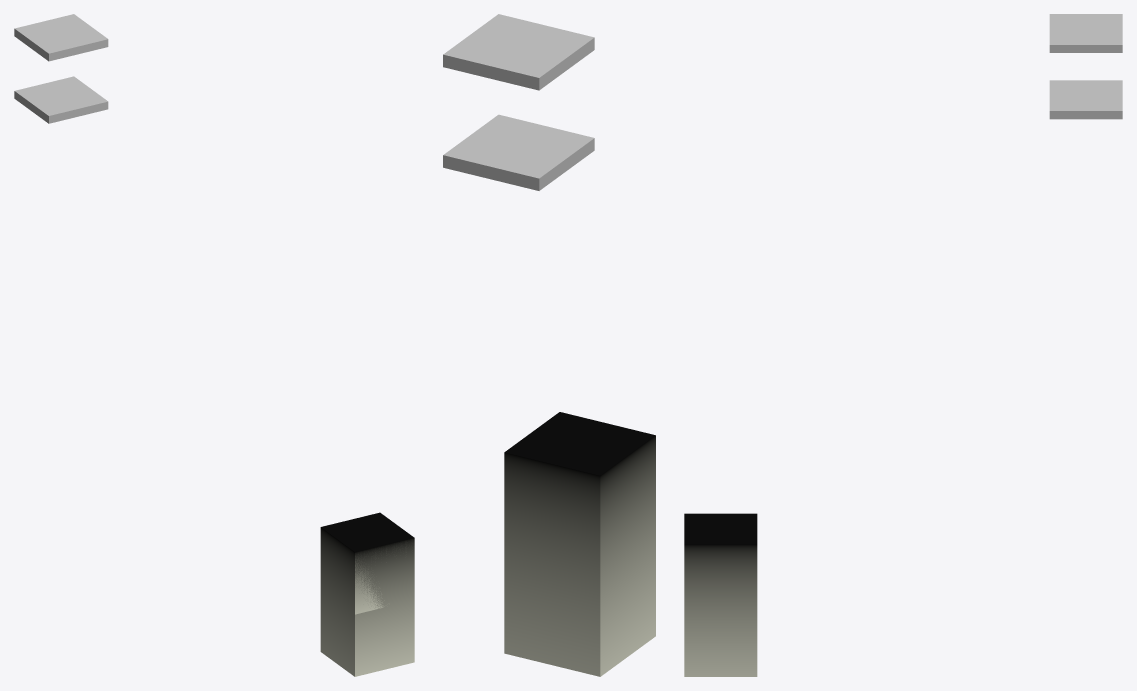
Rendered from _overworld temple forest shortcut (1).fbx.
The picture shows the model from 3 angles, left to right: view 1: azimuth 30°, elevation 25°; view 2: azimuth 150°, elevation 25°; view 3: azimuth 270°, elevation 25°; orthographic projection. The views are drawn at different scales.
Visible parts, largest first — view 1: Cube, nav mesh helper, nav mesh helper (1), un-lightmapped interior; view 2: Cube, nav mesh helper, nav mesh helper (1); view 3: Cube, nav mesh helper, nav mesh helper (1).
Boxes of the visible parts, x1,y1,x2,y2 form: Cube: (320, 512, 414, 676); nav mesh helper: (14, 76, 108, 123); nav mesh helper (1): (14, 14, 108, 61); un-lightmapped interior: (355, 538, 412, 614); Cube: (504, 412, 655, 676); nav mesh helper: (443, 114, 594, 190); nav mesh helper (1): (443, 14, 594, 90); Cube: (684, 513, 757, 676); nav mesh helper: (1049, 80, 1122, 119); nav mesh helper (1): (1049, 14, 1122, 52).
Bounding box in the file's own units: 26 × 68 × 48.
